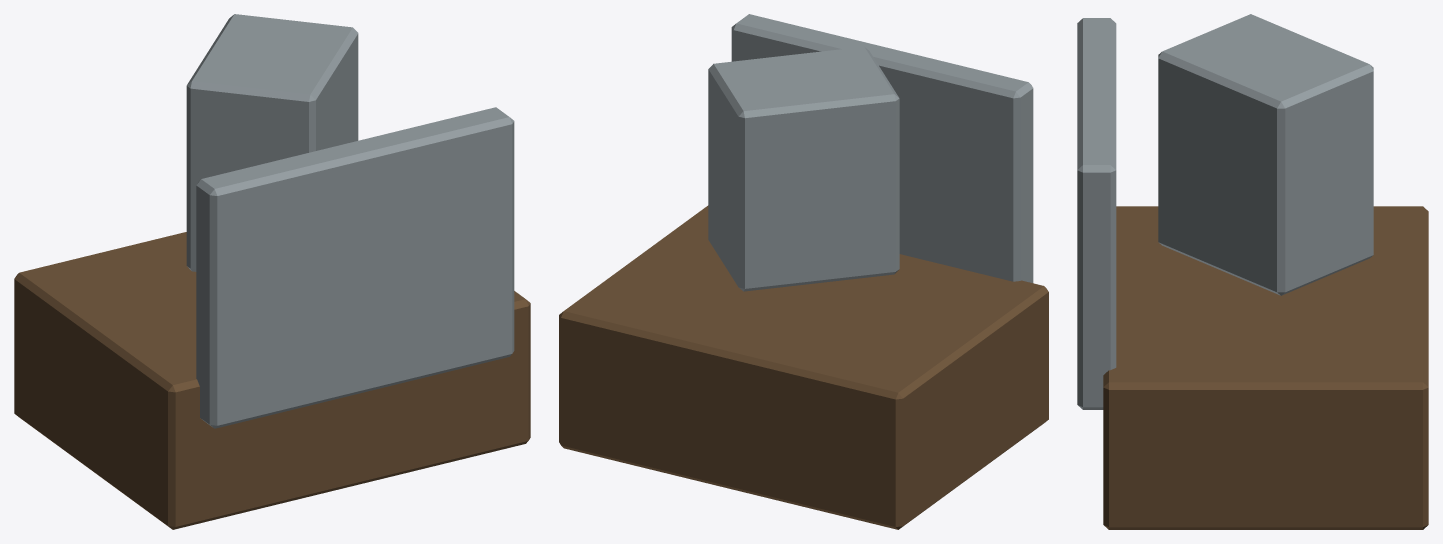
The model's file is town_chapel_altar.lod1.glb.
3 views of the same model, side by side, from view 1: azimuth 30°, elevation 25°; view 2: azimuth 150°, elevation 25°; view 3: azimuth 270°, elevation 25° (orthographic). The views are drawn at different scales.
Size of the model in its own units: 1.34 by 1.33 by 1.1.
